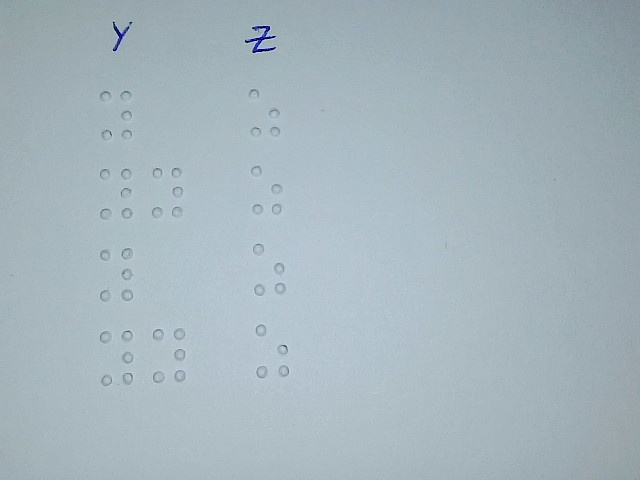Y: (151, 326, 187, 382), (98, 329, 134, 385), (98, 246, 134, 302), (99, 88, 135, 141), (149, 165, 185, 218)
Z: (254, 323, 290, 377), (252, 241, 286, 297), (248, 87, 282, 138), (250, 164, 284, 215)
